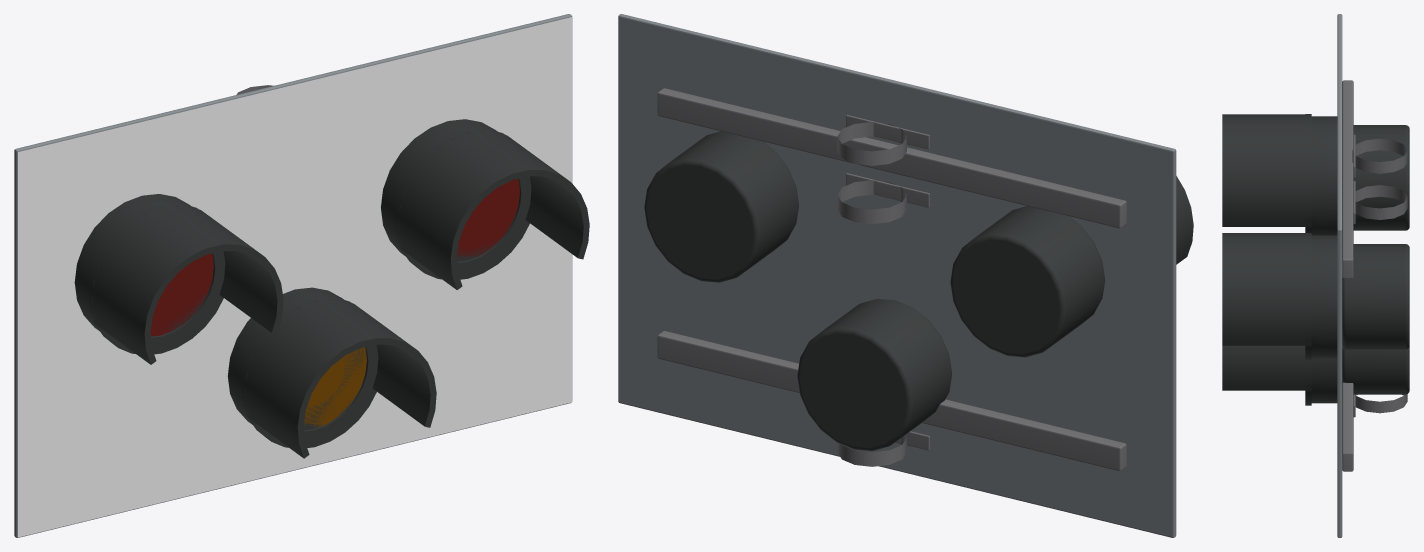
The model's file is rail.crossing.unit.glb.
3 renders of one model, left to right at view 1: azimuth 30°, elevation 25°; view 2: azimuth 150°, elevation 25°; view 3: azimuth 270°, elevation 25°, orthographic. The views are drawn at different scales.
Parts seen in each view (by area): view 1: main__paint_fff, main__paint_333, main__light_711, main__paint_889, main__light_740; view 2: main__paint_889, main__paint_333, main__galv_777; view 3: main__paint_333, main__galv_777, main__paint_889.
Part boxes in pixels (x1,y1,x2,y2): main__paint_fff: [18, 17, 571, 537]; main__paint_333: [74, 119, 589, 458]; main__light_711: [150, 179, 519, 336]; main__paint_889: [14, 14, 572, 537]; main__light_740: [304, 347, 366, 427]; main__paint_889: [618, 14, 1176, 537]; main__paint_333: [644, 131, 1193, 450]; main__galv_777: [657, 88, 1126, 470]; main__paint_333: [1222, 114, 1409, 405]; main__galv_777: [1342, 80, 1407, 471]; main__paint_889: [1337, 14, 1342, 537].
Size of the model in its own units: 1.2 by 0.8 by 0.44.
